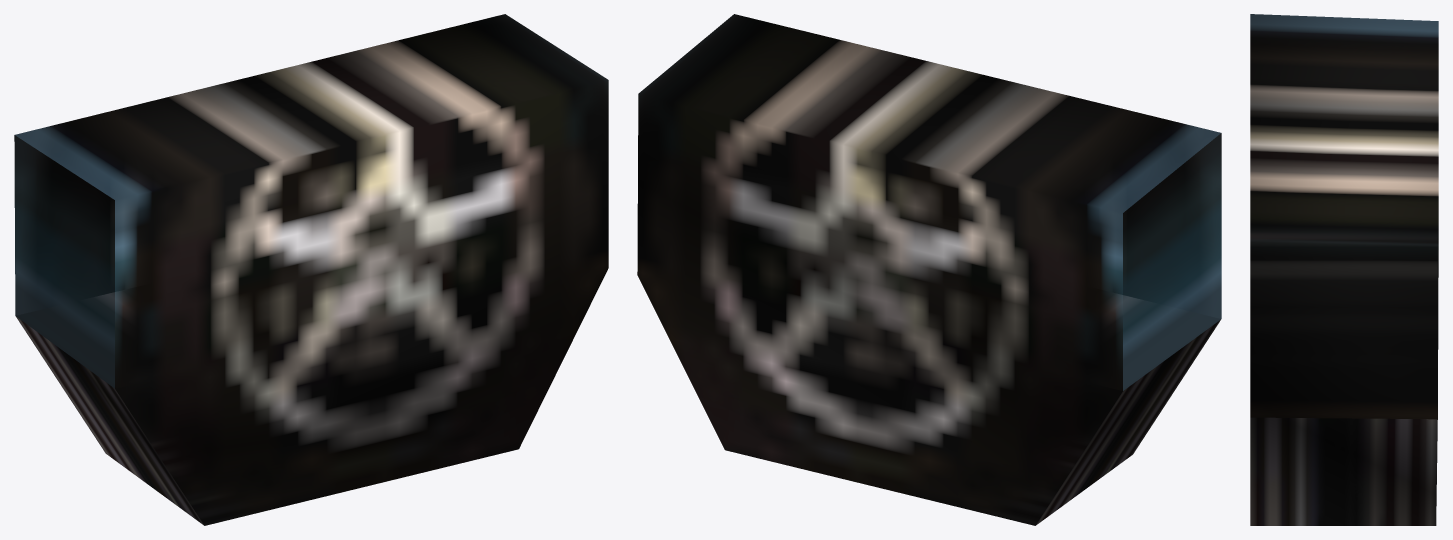
File: Shared - Ground Vehicles - Police Car - CVPoliceCar_x04.glb
3 views of the same model, side by side, from view 1: azimuth 30°, elevation 25°; view 2: azimuth 150°, elevation 25°; view 3: azimuth 270°, elevation 25° (orthographic). The views are drawn at different scales.
Visible parts, largest first — view 1: CVPOLICECAR_X04; view 2: CVPOLICECAR_X04; view 3: CVPOLICECAR_X04.
Part boxes in pixels (bbox=[...]): CVPOLICECAR_X04: bbox=[14, 14, 608, 525]; CVPOLICECAR_X04: bbox=[637, 14, 1221, 525]; CVPOLICECAR_X04: bbox=[1250, 14, 1438, 525].
Size of the model in its own units: 3.62 by 2.44 by 1.27.
Materials: 1 (1 with a texture image).
